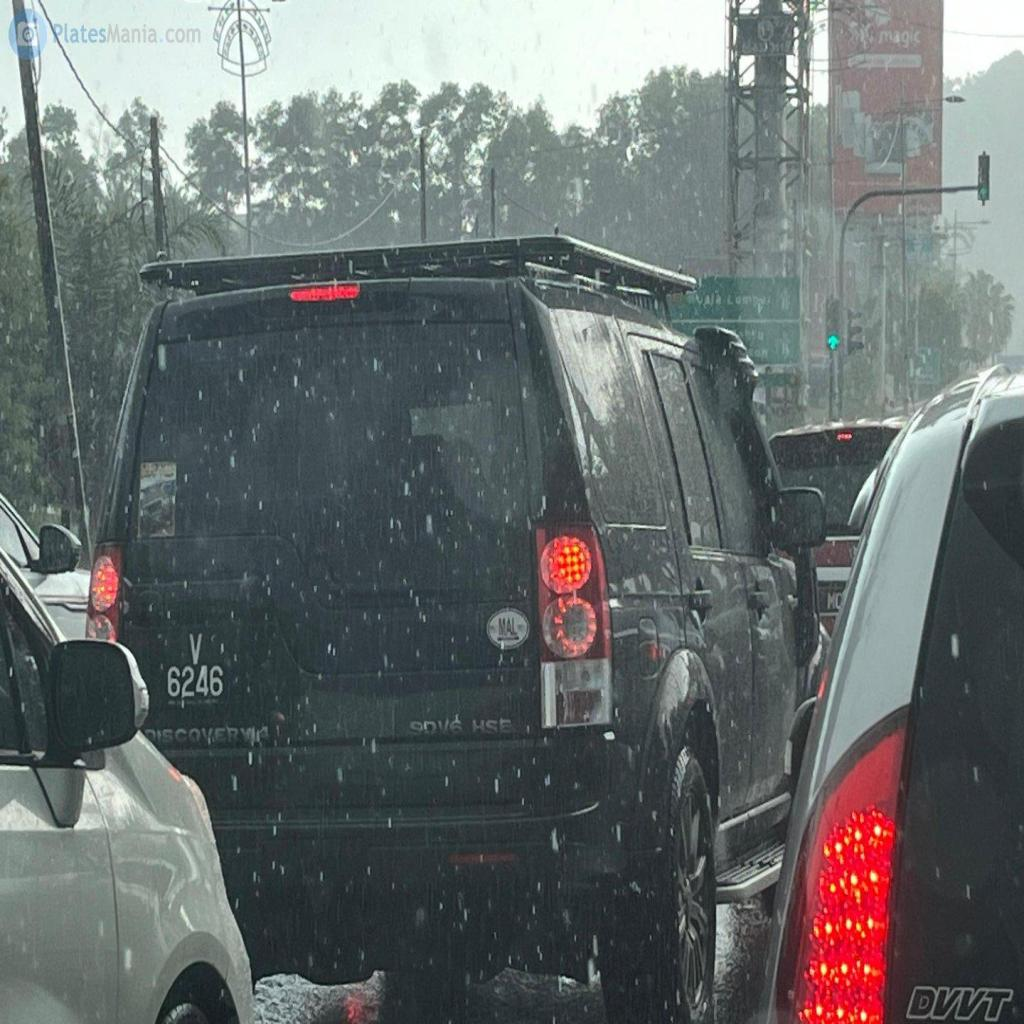car: (89, 236, 822, 1020)
car plate: (150, 615, 242, 710)
